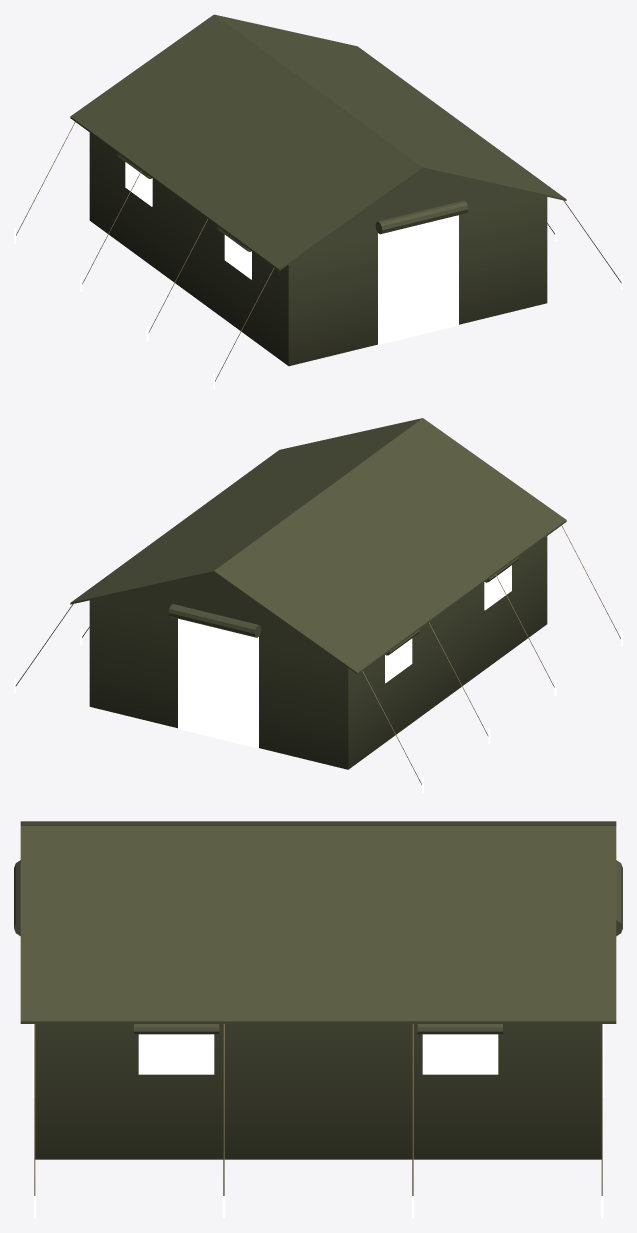
Rendered from tent_frame_6x4.glb.
The picture shows the model from 3 angles, top to bottom: view 1: azimuth 30°, elevation 25°; view 2: azimuth 150°, elevation 25°; view 3: azimuth 270°, elevation 25°; orthographic projection. The views are drawn at different scales.
Visible parts, largest first — view 1: tent_frame_6x4_LOD0; view 2: tent_frame_6x4_LOD0; view 3: tent_frame_6x4_LOD0.
Boxes of the visible parts, x1=… form: tent_frame_6x4_LOD0: x1=14, y1=14, x2=622, y2=389; tent_frame_6x4_LOD0: x1=14, y1=418, x2=622, y2=792; tent_frame_6x4_LOD0: x1=14, y1=821, x2=622, y2=1218.
Size of what is drawn, in the model's own units: 7.13 by 2.92 by 6.44.
